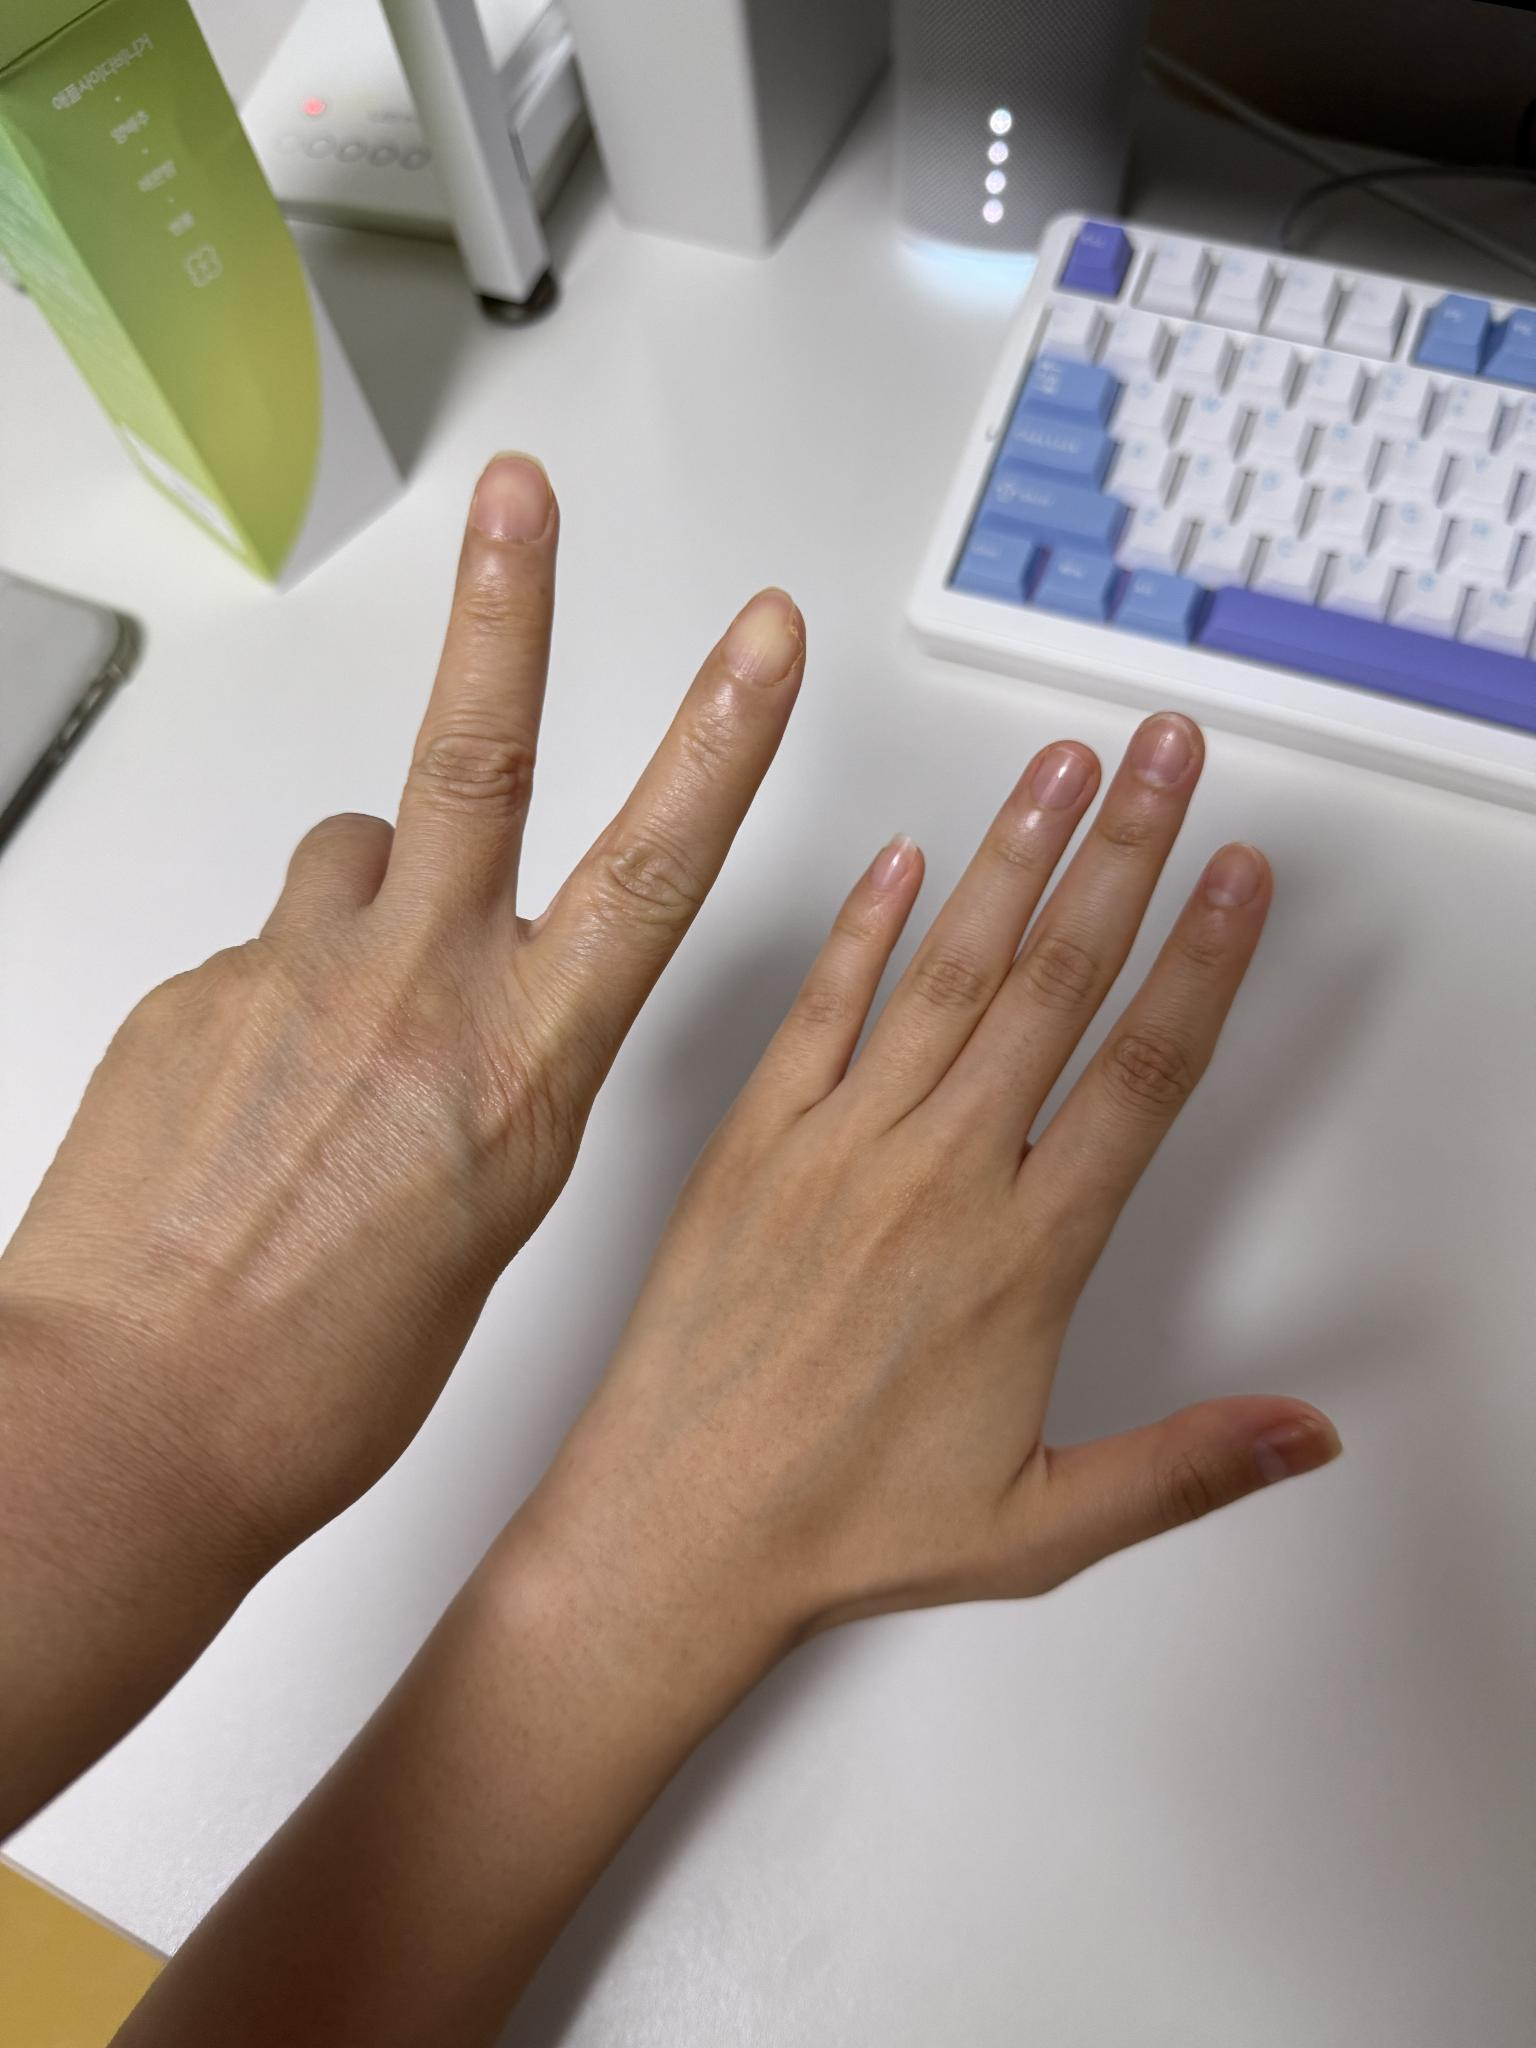v: (11, 431, 816, 1706)
